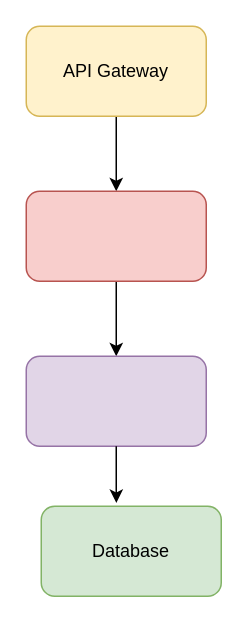
Image size: 248x623. Some labels were removed from this diagram. Here are the shapes that lost their labels. From the top down, the box of each, then its label:
(25, 190, 206, 281): Account Service
(25, 355, 206, 446): Redis Cache
